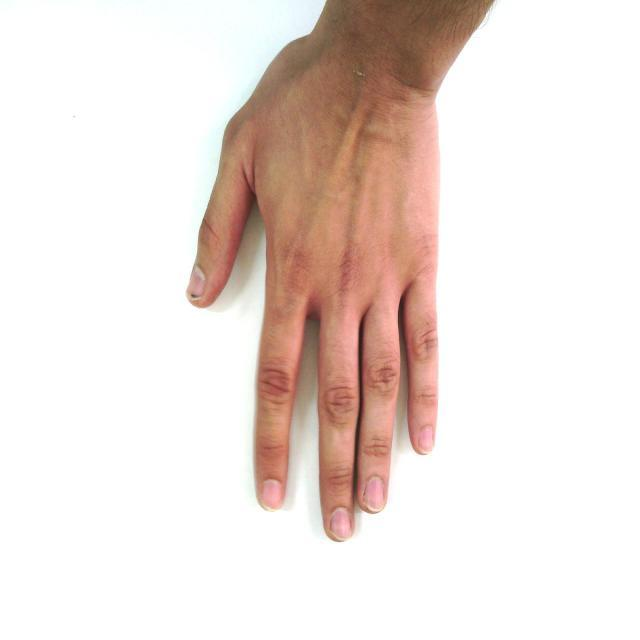Fingernail: (364, 477, 384, 511), (331, 508, 351, 540), (263, 479, 281, 509), (188, 267, 204, 297), (418, 427, 433, 451)
